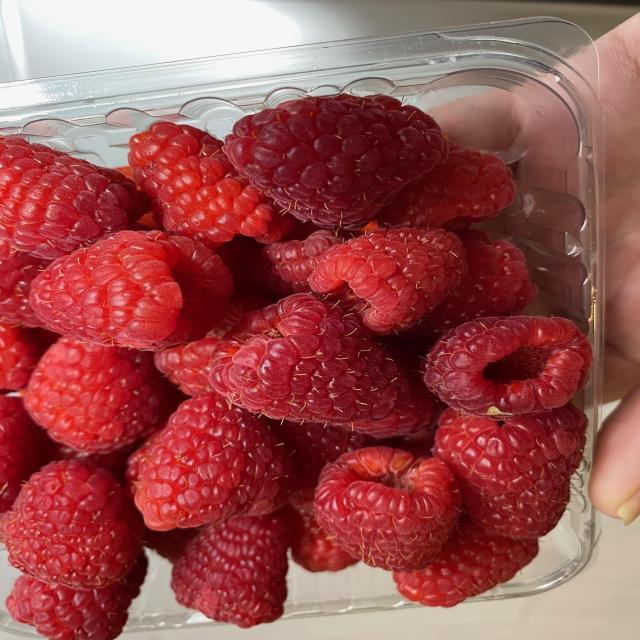raspberries: (0, 62, 586, 633)
